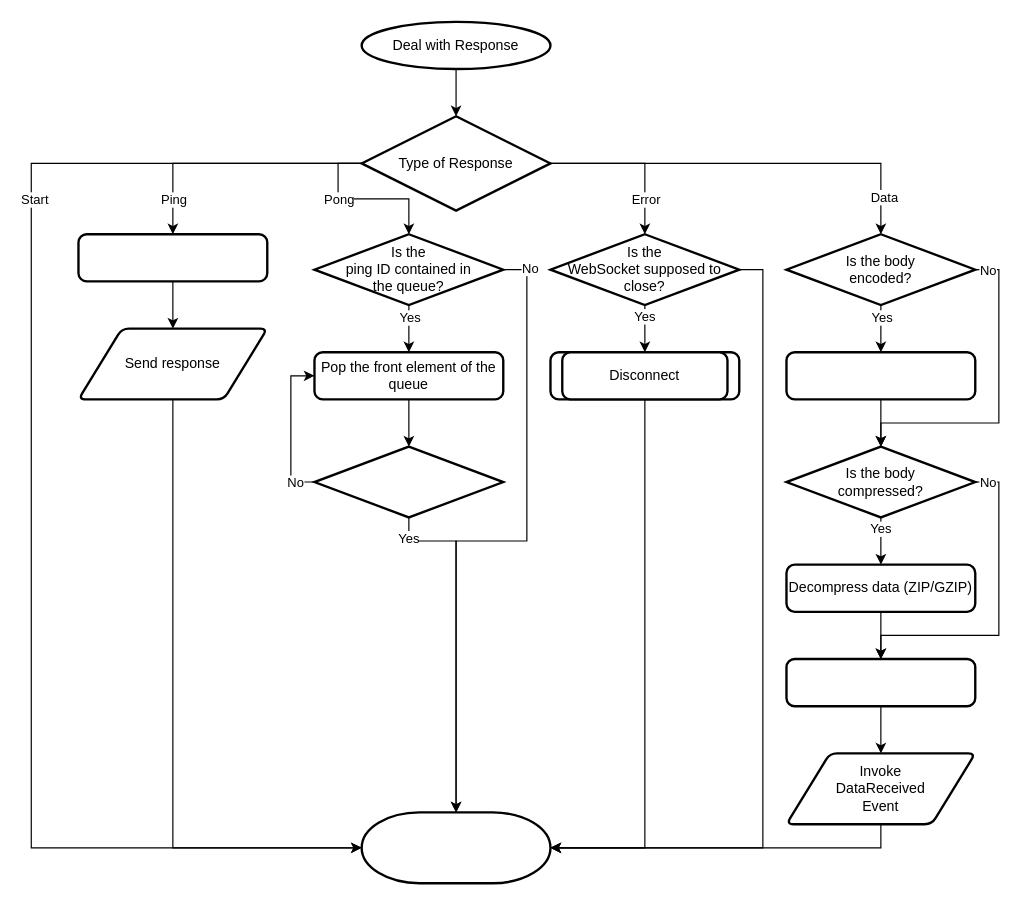
The diagram is 1029 pixels wide and 904 high, and some of its shapes have lost their labels. The centre of each missing label's shape, as x and y in pixels:
"Build pong response with specified ping ID" goes at (x=172, y=257).
"Decode data (UTF8/Base64)" goes at (x=880, y=375).
"Deserialise Data" goes at (x=880, y=682).
"Finish" goes at (x=455, y=847).
"Is the popped element the ping ID?" goes at (x=408, y=481).
